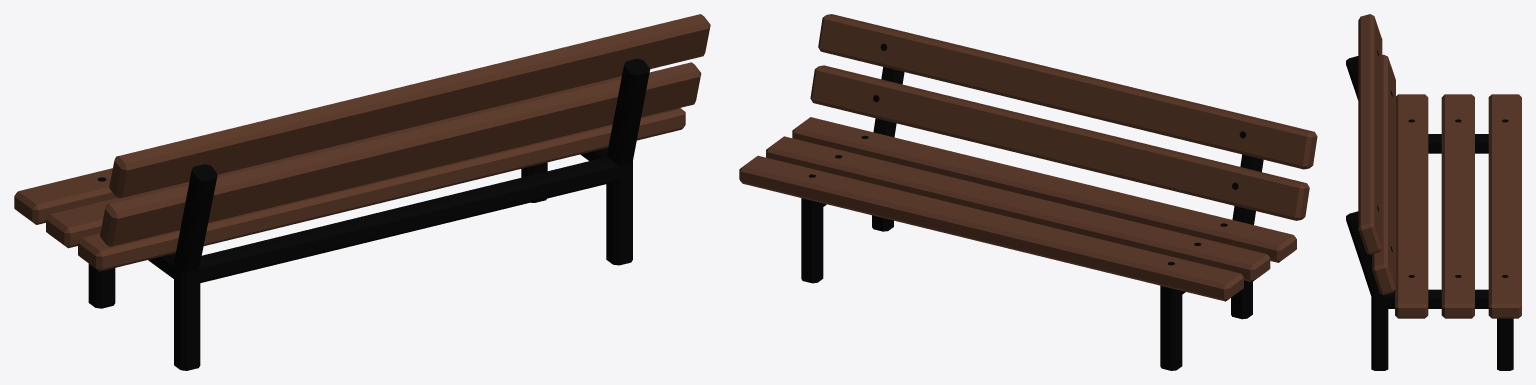
File: Bench.fbx
The picture shows the model from 3 angles, left to right: view 1: azimuth 30°, elevation 25°; view 2: azimuth 150°, elevation 25°; view 3: azimuth 270°, elevation 25°; orthographic projection. The views are drawn at different scales.
Parts seen in each view (by area): view 1: Bench; view 2: Bench; view 3: Bench.
Part boxes in pixels (bbox=[...]): Bench: bbox=[14, 14, 710, 370]; Bench: bbox=[739, 14, 1317, 370]; Bench: bbox=[1346, 14, 1521, 370].
Size of the model in its own units: 300 by 113 by 105.
